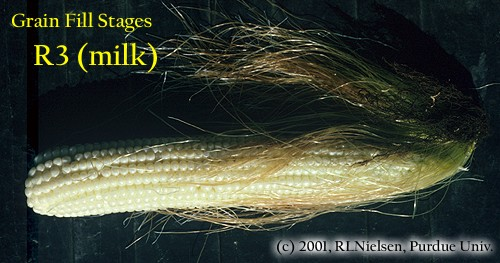corn: (25, 133, 484, 222)
